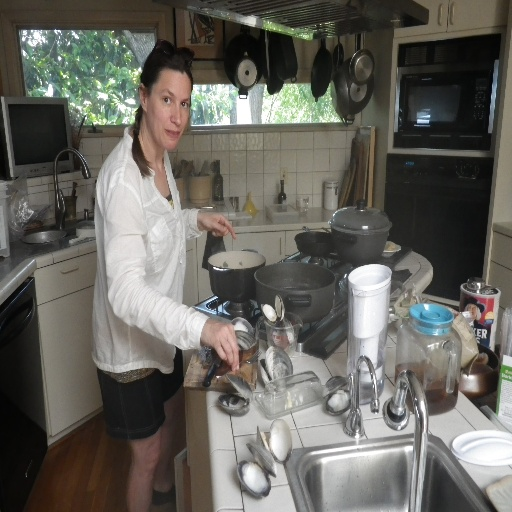hand: (195, 330, 244, 375), (198, 209, 237, 240)
